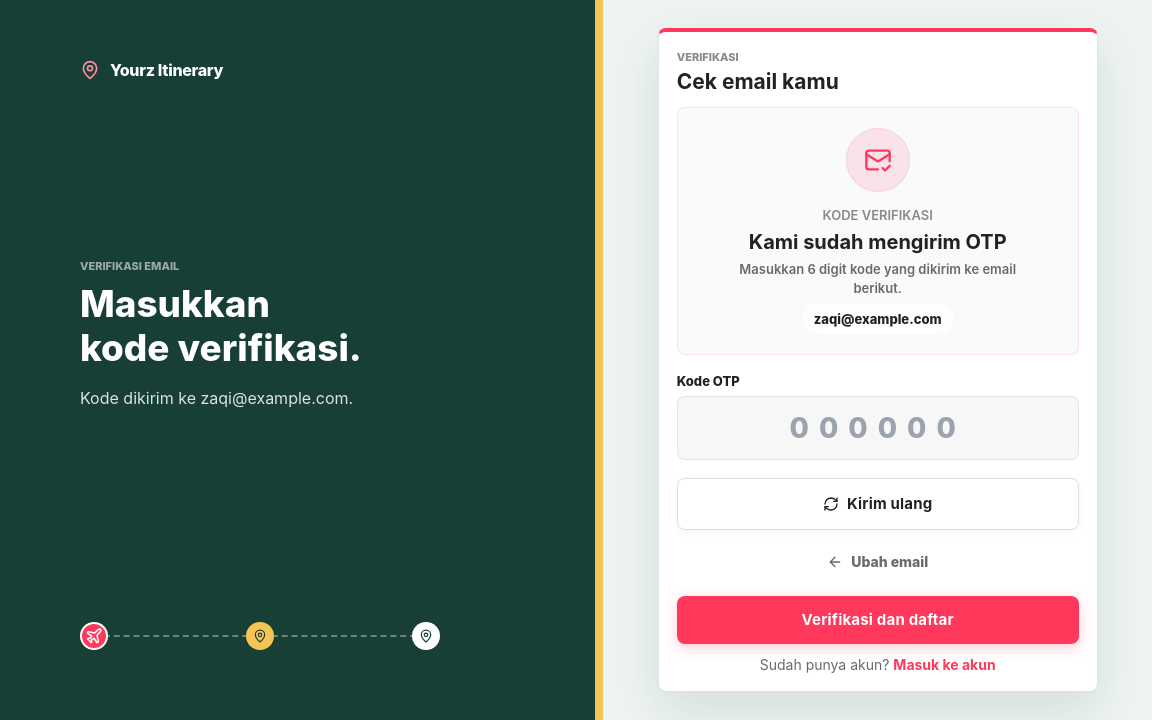
Scenario: Register › keeps OTP input numeric and limited to six digits
This screenshot has width=1152, height=720.
In the field labelled "Kode OTP": (878, 428) x1=677 y1=396 x2=1079 y2=460, type "12ab345678"
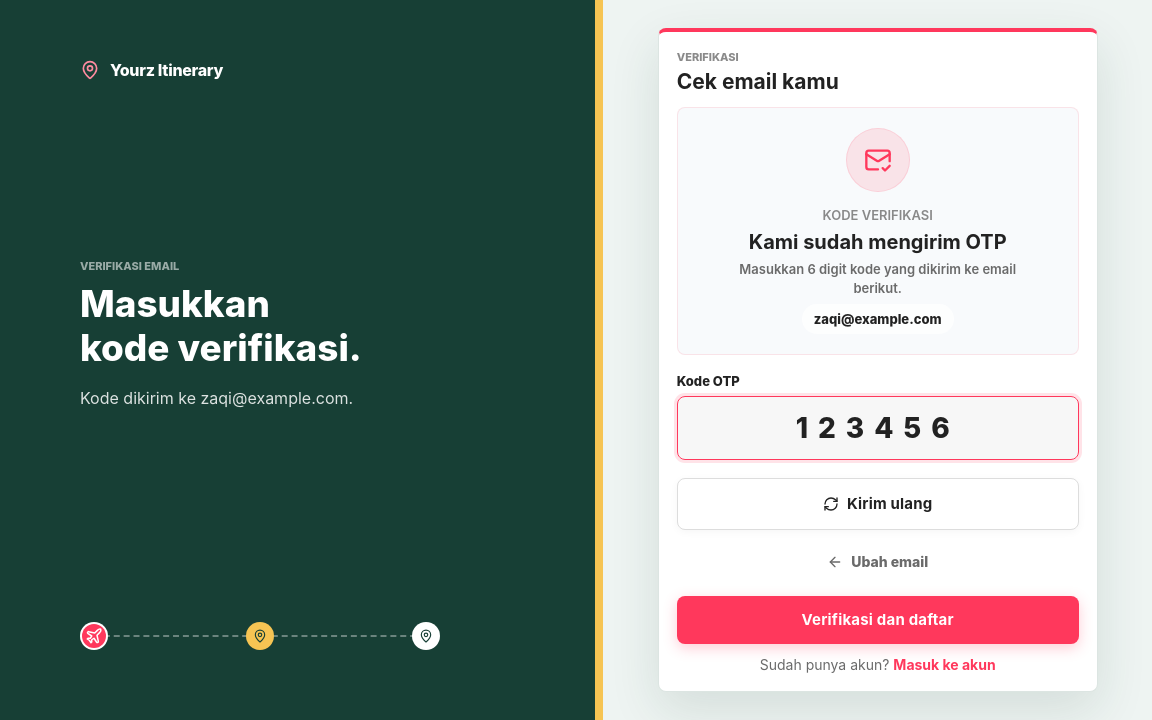
Expected: the field labelled "Kode OTP" holds "123456", x1=677 y1=396 x2=1079 y2=460
